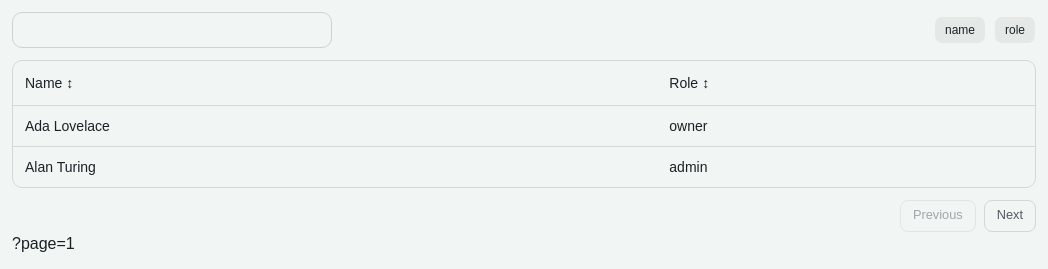
Test: DataTable › writes the page to the URL when paginating
Click the button "Next": (1010,216) [984,200,1036,232]
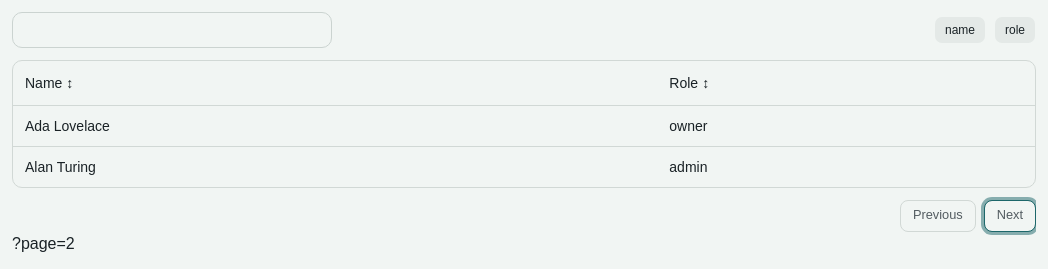
expect the text with test id "search" shows "page=2": met, box [12,234,75,252]
